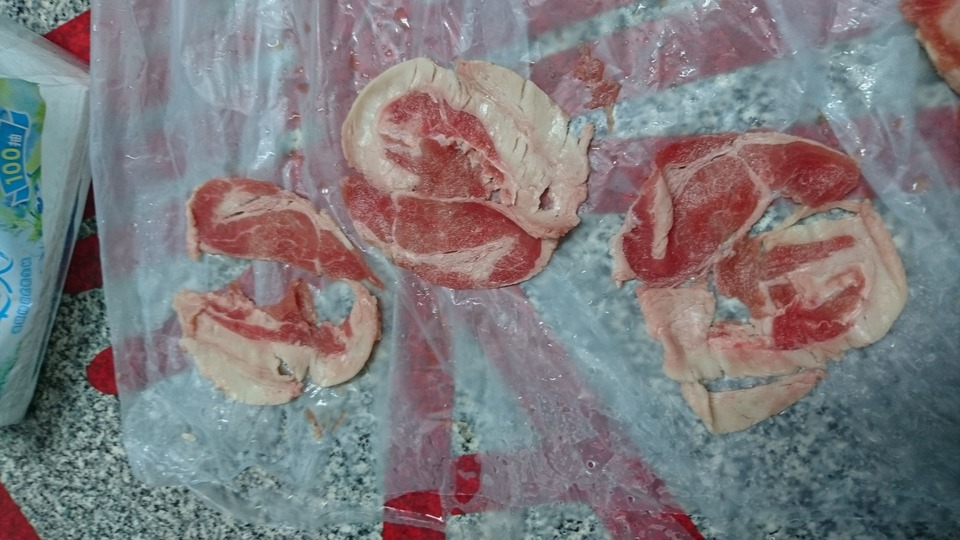restructured meat: (613, 118, 915, 438), (340, 45, 601, 298), (174, 176, 383, 405)
